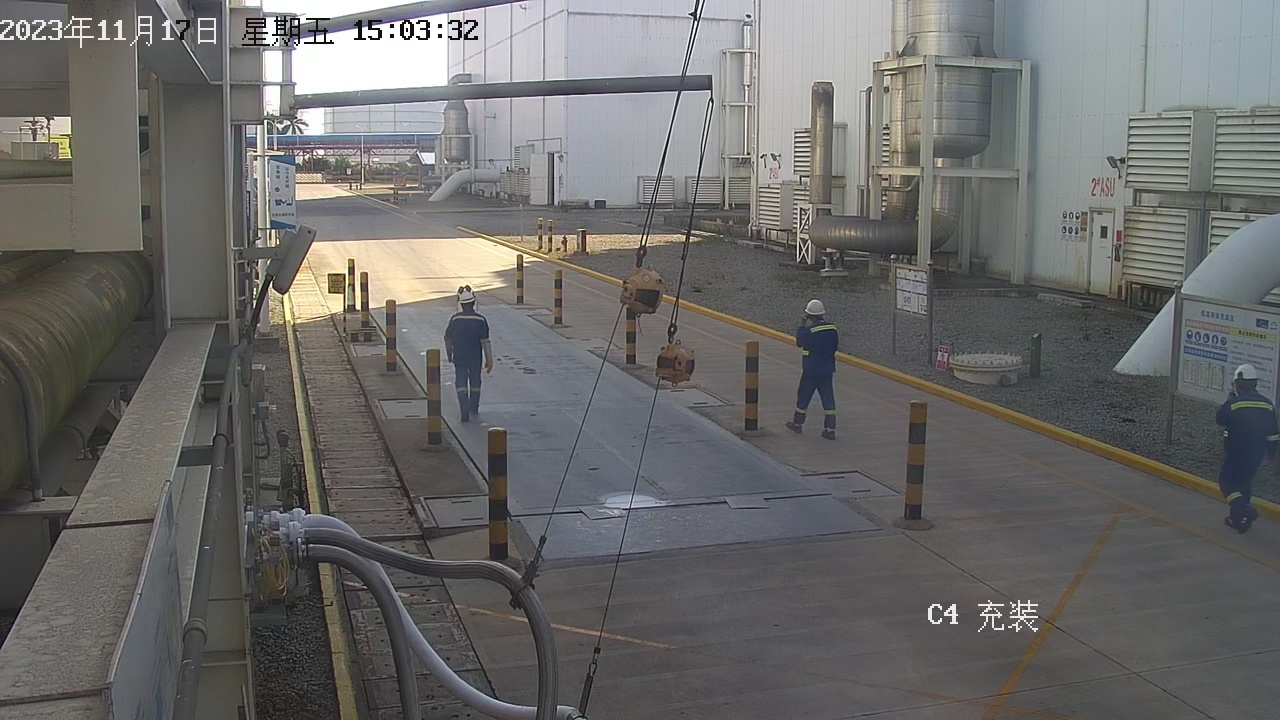Head_with_Helmet: (1220, 354, 1272, 397), (794, 290, 840, 330), (442, 276, 486, 316)
Uniform: (1209, 383, 1276, 537), (782, 314, 850, 447), (435, 306, 504, 424)
